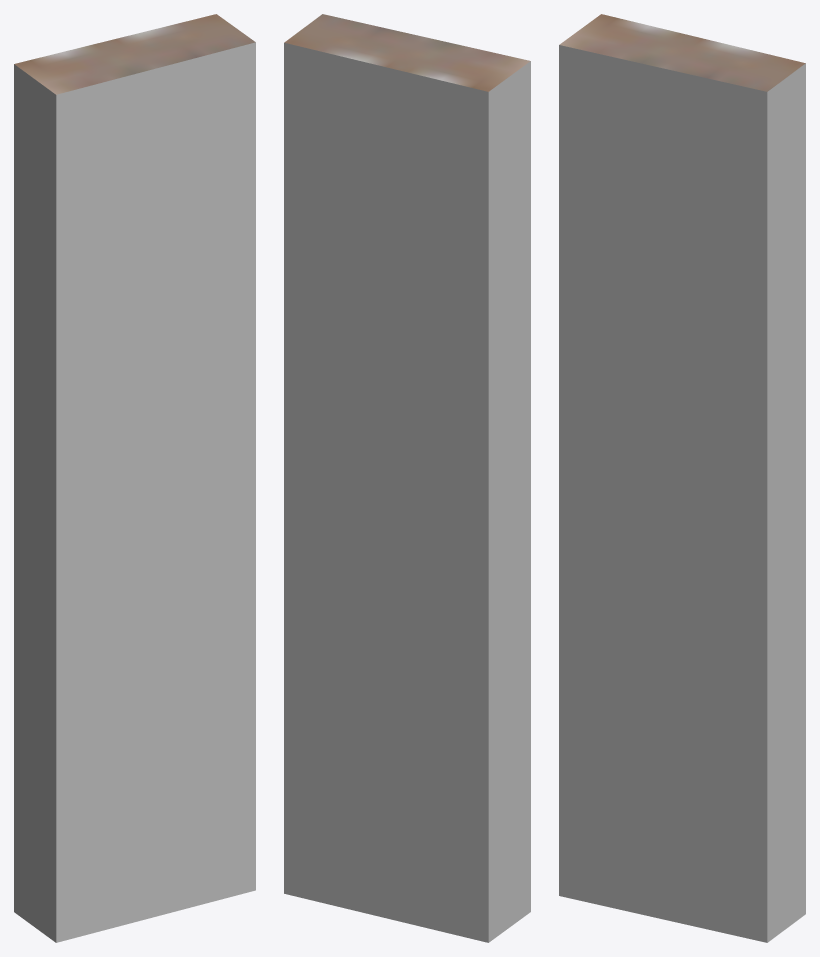
The model's file is DEBW_0010007THZp.gltf.
The picture shows the model from 3 angles, left to right: view 1: azimuth 30°, elevation 25°; view 2: azimuth 150°, elevation 25°; view 3: azimuth 330°, elevation 25°; orthographic projection.
Visible parts, largest first — view 1: Z_UP; view 2: Z_UP; view 3: Z_UP.
Boxes of the visible parts, x1,y1,x2,y2 form: Z_UP: [14, 14, 255, 942]; Z_UP: [284, 14, 530, 942]; Z_UP: [559, 14, 805, 942].
Bounding box in the file's own units: 3.63 × 14.44 × 1.32.
2 materials, 1 textured.
